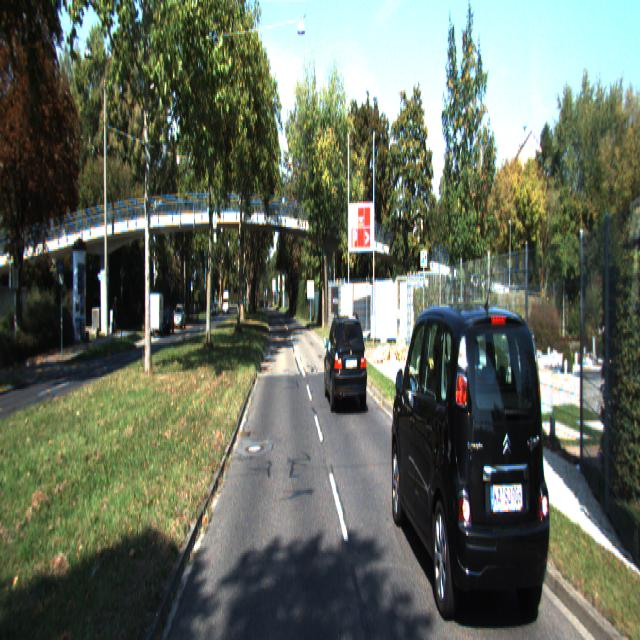Car: (386, 276, 556, 624), (324, 311, 367, 414)
